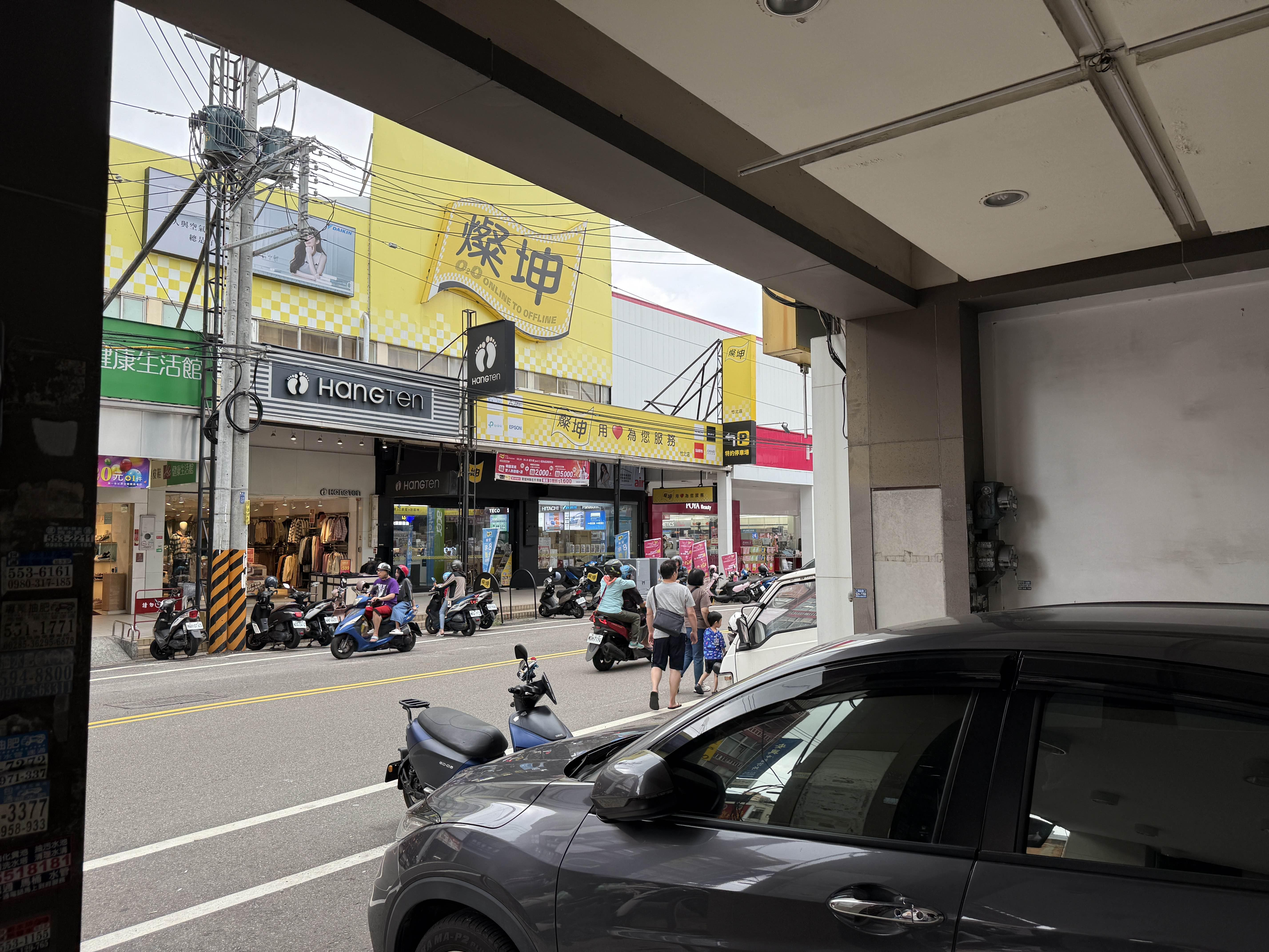NoHelmet: (661, 560, 678, 580), (688, 569, 705, 587), (708, 611, 722, 628)
NoVest: (652, 583, 685, 631), (704, 630, 723, 660), (451, 572, 466, 599)
